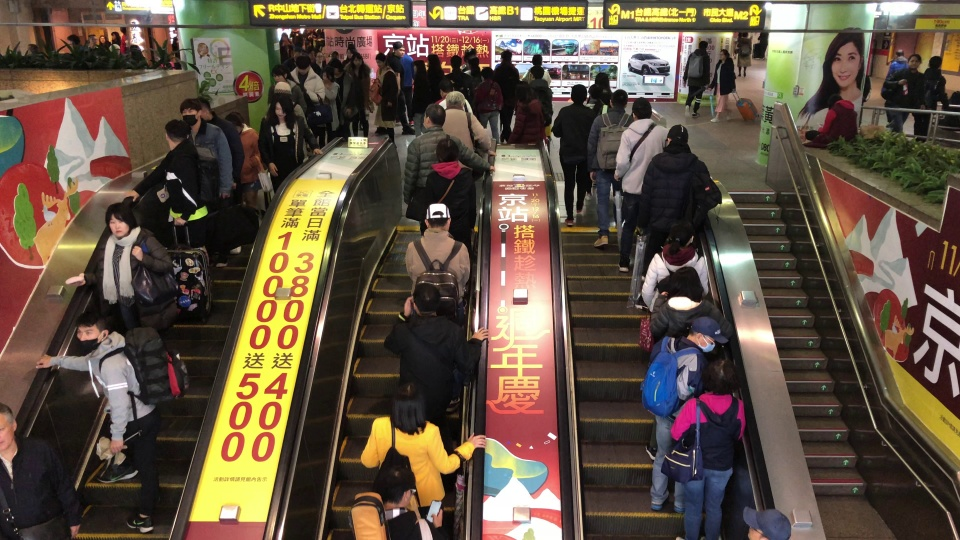person_head: (384, 381, 432, 435), (740, 503, 794, 540), (372, 465, 416, 510), (71, 310, 110, 353), (685, 317, 729, 354), (667, 265, 704, 302), (704, 357, 739, 396), (103, 201, 137, 239), (411, 283, 442, 316), (0, 403, 19, 451), (161, 119, 190, 149), (422, 203, 451, 230), (666, 221, 695, 245), (177, 98, 202, 122), (434, 139, 459, 163), (631, 95, 653, 121), (422, 104, 446, 127), (666, 124, 689, 148), (269, 96, 292, 119), (223, 111, 245, 133), (609, 89, 628, 110), (195, 97, 212, 120), (445, 91, 465, 110), (515, 80, 533, 101), (570, 84, 587, 104), (271, 64, 289, 82), (387, 56, 404, 74), (826, 93, 843, 111), (272, 82, 292, 97), (295, 55, 310, 73), (588, 83, 603, 99), (907, 54, 922, 70), (927, 55, 943, 70), (412, 60, 426, 77), (595, 73, 609, 89), (426, 53, 440, 68), (449, 55, 463, 70), (498, 49, 513, 63), (529, 66, 545, 79), (439, 83, 453, 97), (331, 59, 343, 74), (375, 52, 387, 67), (482, 66, 494, 81), (531, 53, 544, 66), (393, 42, 405, 56), (468, 57, 481, 68), (352, 53, 362, 67), (718, 48, 730, 59), (306, 47, 316, 60), (697, 40, 708, 51), (87, 35, 98, 45), (293, 48, 303, 59), (739, 30, 750, 40), (346, 45, 355, 57), (118, 26, 127, 36), (321, 69, 330, 79), (316, 50, 323, 62), (895, 48, 904, 57), (112, 31, 119, 41), (99, 35, 106, 43), (281, 33, 288, 41)
person_vbox: (33, 309, 190, 533), (642, 264, 732, 460), (359, 381, 488, 512), (632, 123, 722, 310), (648, 315, 733, 512), (670, 354, 746, 540), (384, 282, 486, 420), (87, 200, 180, 339), (0, 402, 84, 540), (123, 119, 211, 249), (612, 94, 669, 271), (399, 103, 494, 204), (194, 95, 244, 267), (401, 202, 470, 315), (345, 463, 446, 540), (422, 137, 482, 263), (589, 89, 636, 246), (552, 82, 595, 225), (175, 96, 233, 200), (642, 220, 708, 311), (222, 109, 261, 253), (260, 96, 319, 187), (438, 91, 489, 168), (519, 52, 555, 153), (881, 53, 925, 134), (801, 92, 860, 150), (507, 79, 547, 148), (491, 49, 520, 142), (370, 55, 399, 147), (388, 42, 416, 137), (920, 54, 949, 143), (344, 53, 372, 139), (680, 40, 711, 117), (707, 47, 737, 122), (329, 57, 356, 138), (269, 64, 308, 120), (266, 82, 310, 130), (475, 64, 501, 144), (290, 55, 325, 108), (587, 83, 603, 196), (527, 64, 554, 127), (372, 53, 392, 136), (410, 60, 430, 135), (879, 47, 908, 96), (320, 68, 341, 135), (445, 55, 473, 94), (426, 53, 444, 106), (733, 29, 752, 78), (595, 72, 614, 107), (465, 56, 483, 86), (284, 50, 306, 67), (118, 26, 130, 55), (279, 31, 294, 52), (98, 34, 112, 53), (85, 35, 99, 53), (314, 51, 326, 69)
